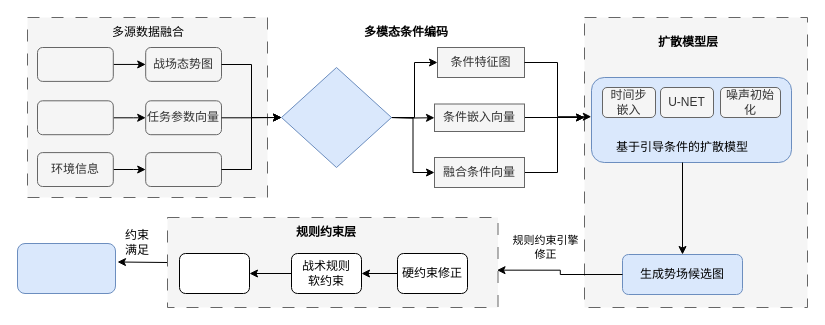
Some shapes in this 825 by 325 pixel diagram are drawn without their labels. The centre of each missing label's shape, as x and y in pixels:
人工势场/热力图: the point at 66,268
多模态条件编码器: the point at 336,117
情报信息: the point at 74,63
指挥信息: the point at 74,117
条件引导约束: the point at 214,273
环境特征图: the point at 183,169
